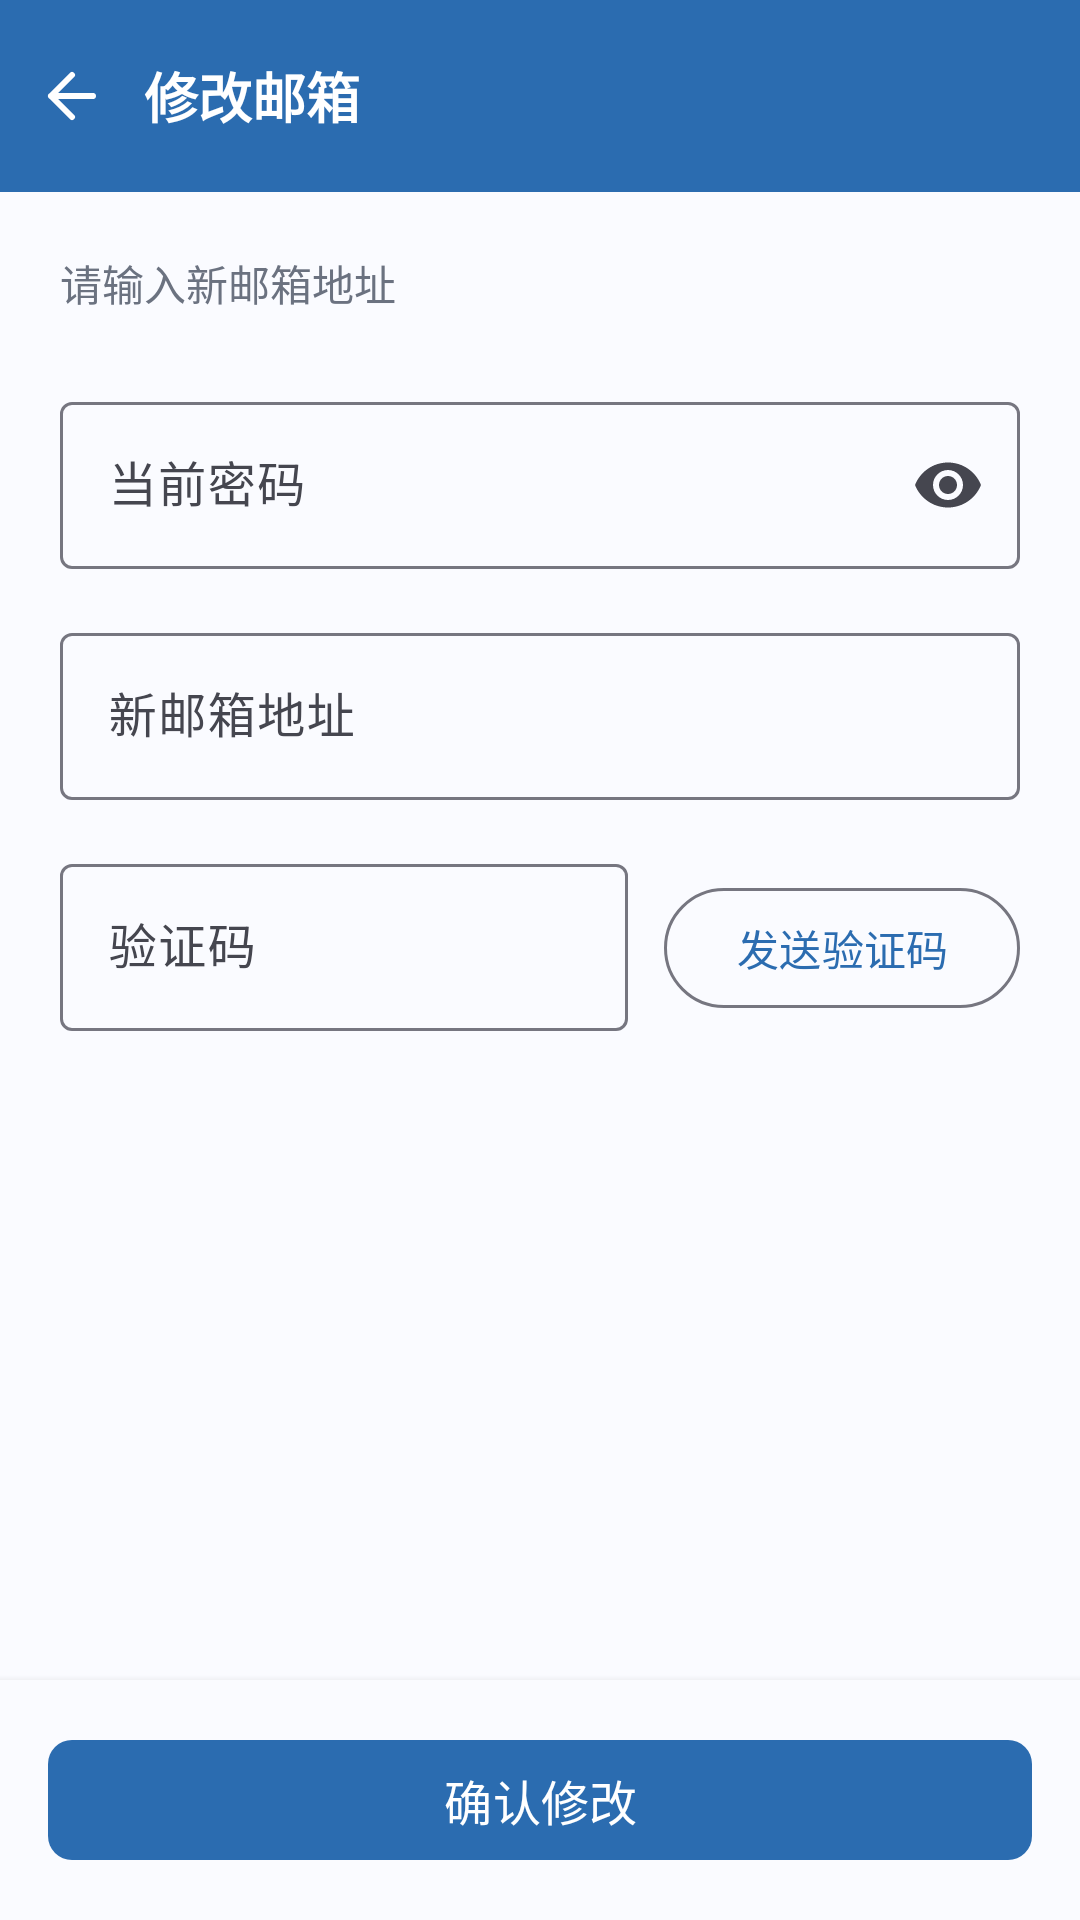

Icon bounding boxes for this 1080 x 1920 phone screenshot, format (x1, y1, x2, y2):
返回: (48, 72, 96, 120)
